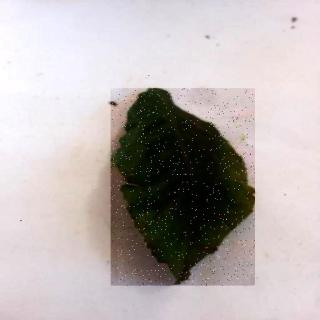Brown Blight: (112, 89, 256, 287)
